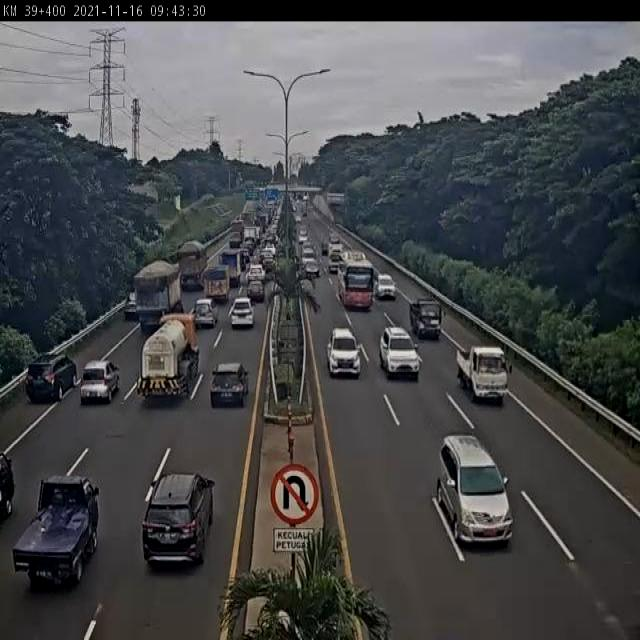Bus: (336, 250, 374, 308)
Car: (12, 474, 100, 587), (437, 436, 512, 544), (142, 471, 216, 566), (456, 344, 510, 404), (24, 352, 78, 404), (379, 326, 420, 381), (209, 360, 251, 408), (79, 360, 121, 404), (326, 327, 360, 379), (410, 297, 442, 340), (0, 452, 15, 520), (229, 297, 255, 329), (193, 298, 218, 330), (374, 273, 397, 301), (247, 276, 265, 303), (260, 245, 276, 270), (248, 263, 265, 286), (302, 257, 320, 278), (242, 238, 256, 264), (328, 250, 343, 272), (301, 246, 315, 265), (322, 240, 329, 255)
Truck: (136, 316, 198, 396), (204, 264, 229, 299)
